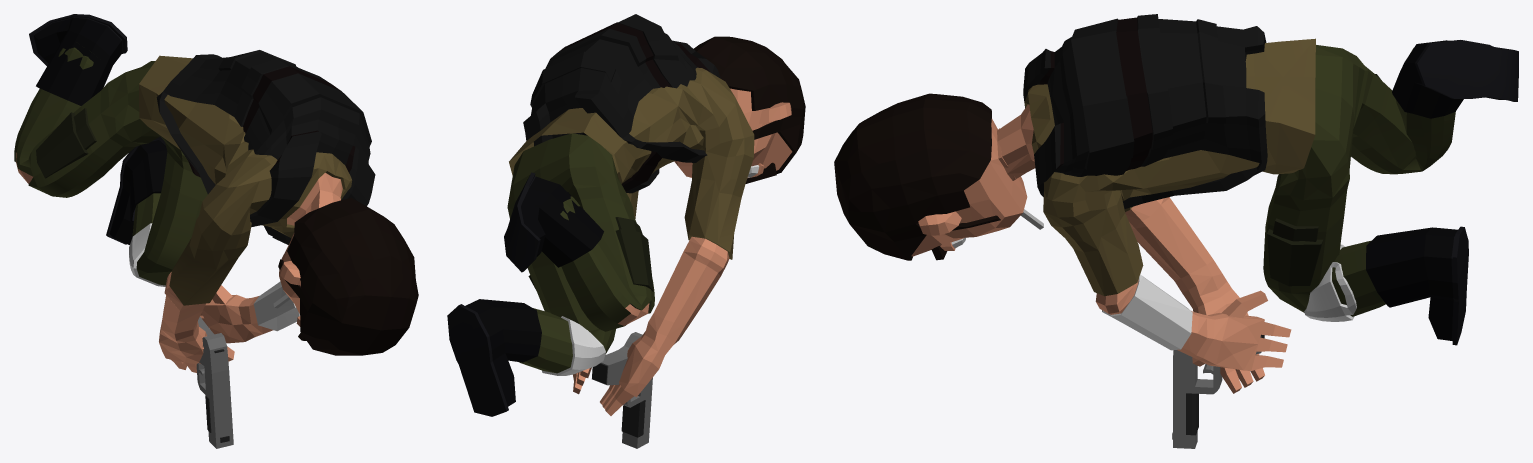
File: frame_0085.obj
3 views of the same model, side by side, from view 1: azimuth 30°, elevation 25°; view 2: azimuth 150°, elevation 25°; view 3: azimuth 270°, elevation 25° (orthographic). The views are drawn at different scales.
Visible parts, largest first — view 1: Body, Gun; view 2: Body, Gun; view 3: Body, Gun.
Part boxes in pixels (bbox=[...]): Body: bbox=[14, 14, 418, 372]; Gun: bbox=[196, 317, 233, 448]; Body: bbox=[447, 14, 805, 416]; Gun: bbox=[592, 332, 652, 448]; Body: bbox=[834, 14, 1518, 393]; Gun: bbox=[1172, 334, 1264, 448].
Size of the model in its own units: 1.42 by 2.41 by 3.38.
